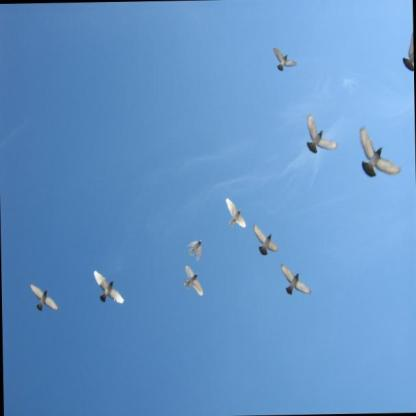bird: (356, 122, 402, 183), (302, 111, 339, 157), (92, 268, 126, 308), (279, 261, 314, 297), (29, 280, 62, 317), (252, 223, 280, 258), (270, 44, 298, 75), (224, 196, 248, 230), (183, 264, 204, 298), (186, 238, 204, 261)
